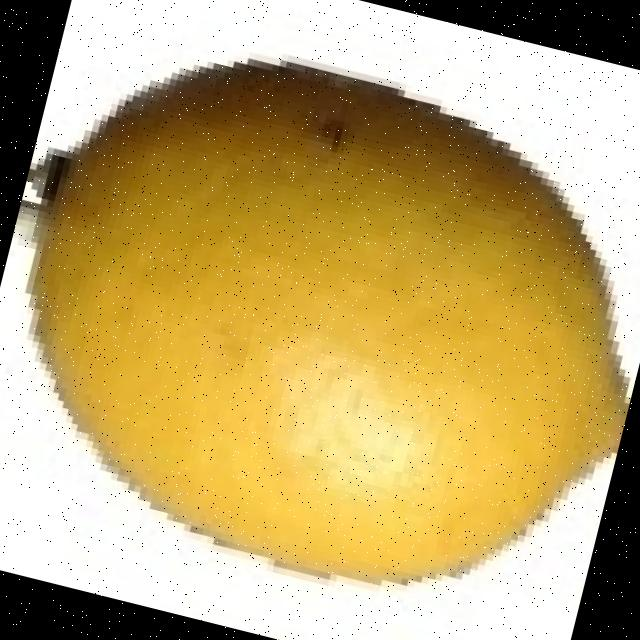lemon: (32, 64, 629, 583)
